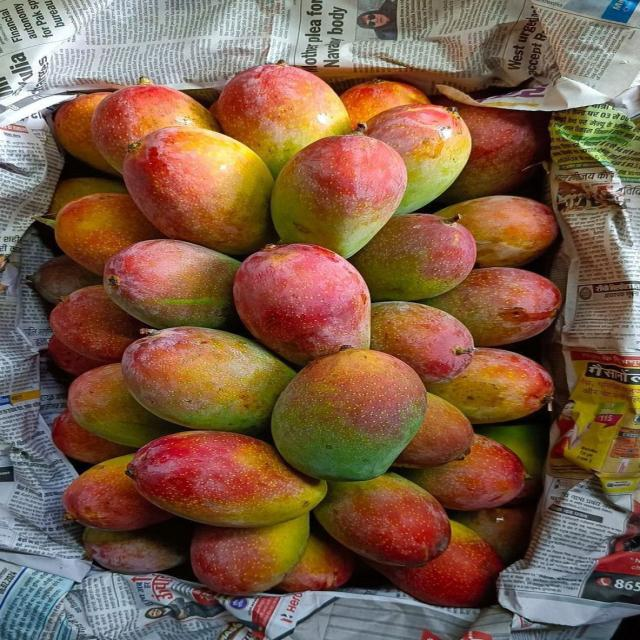mango: (272, 349, 426, 481), (123, 127, 274, 254), (127, 431, 326, 527), (122, 327, 294, 432), (271, 133, 406, 257), (234, 244, 370, 365), (213, 64, 350, 177), (314, 474, 450, 566), (434, 96, 548, 202), (104, 240, 239, 328), (92, 79, 219, 172), (367, 105, 471, 214), (370, 522, 503, 607), (421, 268, 561, 346), (351, 214, 475, 301), (428, 348, 553, 424), (68, 363, 181, 447), (191, 514, 308, 595), (53, 194, 163, 276), (406, 435, 525, 510), (437, 195, 558, 267), (371, 302, 473, 384), (62, 455, 172, 530), (50, 286, 143, 363), (474, 424, 548, 506), (394, 393, 473, 468), (83, 520, 188, 574), (54, 92, 117, 174), (450, 507, 534, 566), (52, 410, 135, 464), (340, 79, 429, 129), (277, 535, 353, 593), (27, 256, 101, 304), (47, 178, 126, 218), (47, 336, 104, 375)
